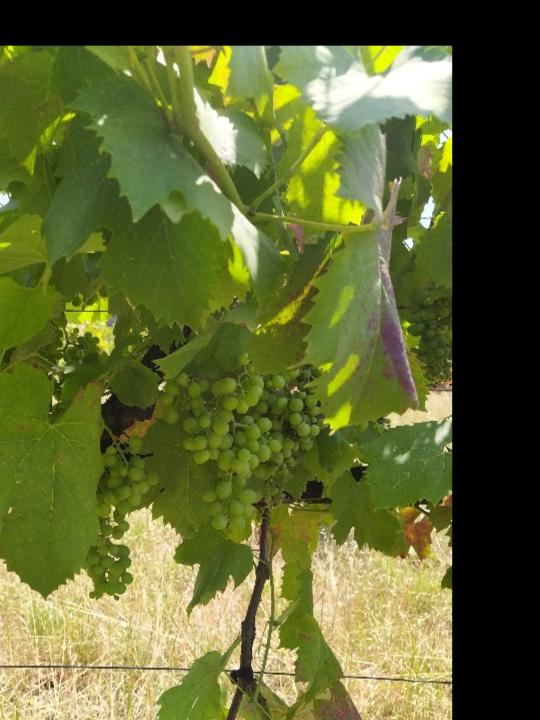grape: (162, 372, 327, 549), (86, 439, 159, 604)
